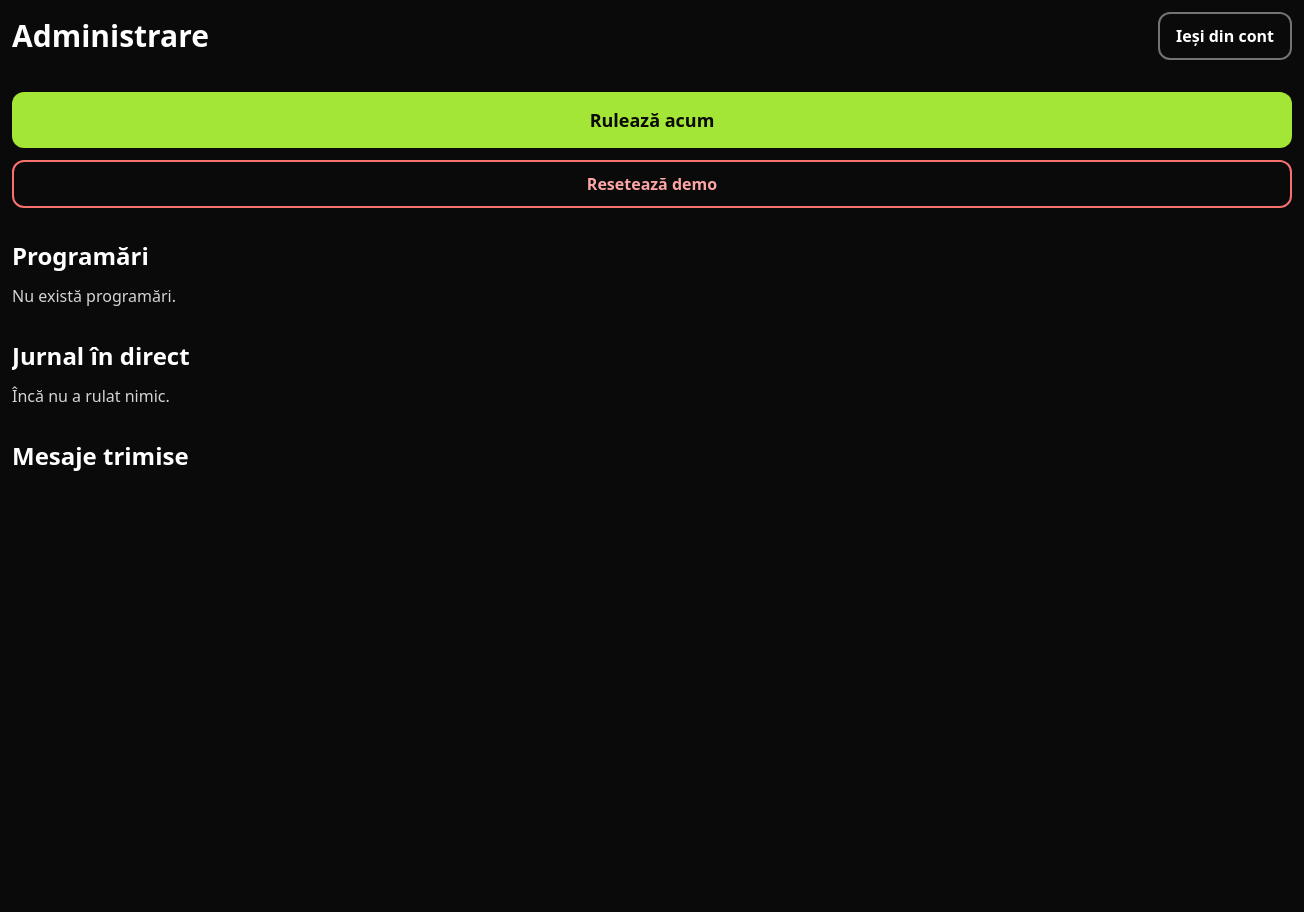
it: Admin › run now button disables while running
Later steps or results of the test are not shown.
Click the button "Rulează acum" at (652, 120), box [12, 92, 1292, 148]
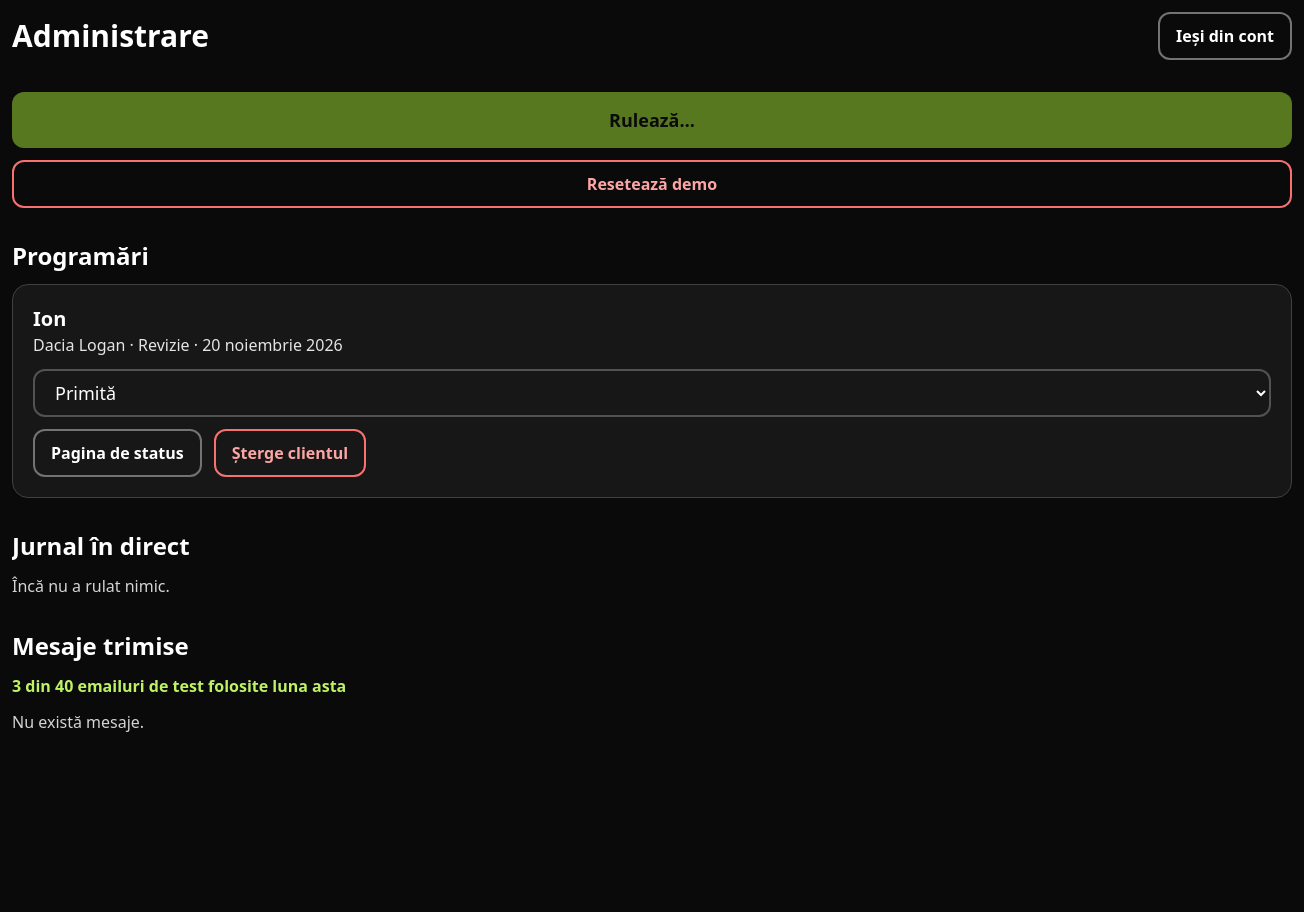
Expected: the button "Rulează…" is disabled, [12, 92, 1292, 148]
